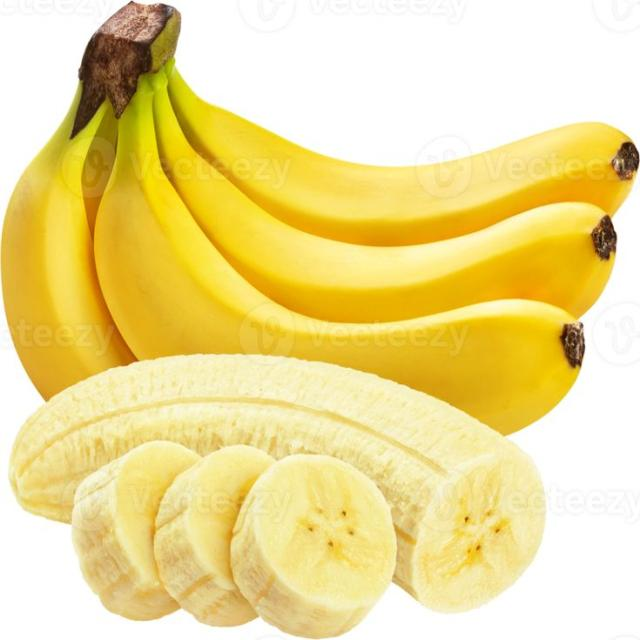banana: (95, 75, 583, 432), (10, 355, 545, 611), (155, 91, 615, 322), (169, 71, 638, 245), (2, 85, 134, 399), (231, 455, 397, 638), (72, 442, 200, 620), (155, 446, 274, 626), (82, 109, 118, 236)
